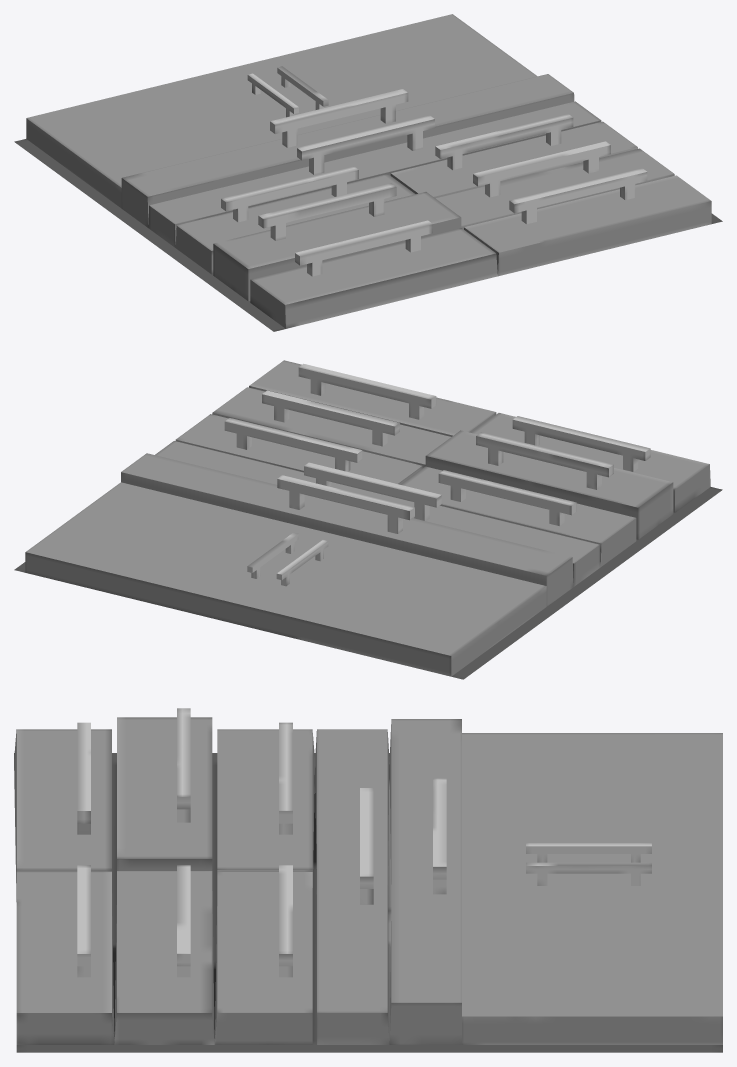
The model's file is Drawers_D.fbx.
3 renders of one model, top to bottom at view 1: azimuth 30°, elevation 25°; view 2: azimuth 150°, elevation 25°; view 3: azimuth 270°, elevation 25°, orthographic. The views are drawn at different scales.
Visible parts, largest first — view 1: Drawers_D; view 2: Drawers_D; view 3: Drawers_D.
Boxes of the visible parts, box(x1,y1,x2,y2) form: Drawers_D: box(14, 14, 722, 331); Drawers_D: box(14, 360, 722, 679); Drawers_D: box(14, 708, 722, 1052).
Size of the model in its own units: 200 by 24.12 by 200.
